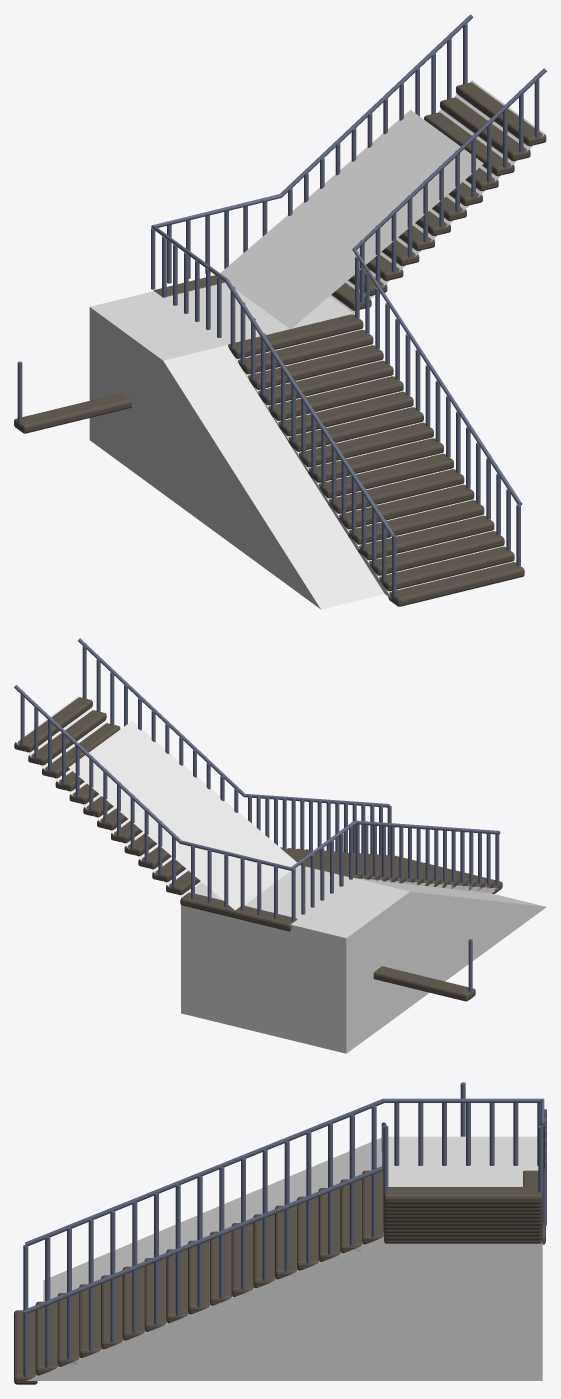
The model's file is ESCALERASpRACTICAS.glb.
3 renders of one model, top to bottom at view 1: azimuth 30°, elevation 25°; view 2: azimuth 150°, elevation 25°; view 3: azimuth 270°, elevation 25°, orthographic. The views are drawn at different scales.
Visible parts, largest first — view 1: Cube.005_clone_18, Cube, Cube.001, Cube.005_clone_18.001; view 2: Cube, Cube.005_clone_18, Cube.001, Cube.005_clone_18.001; view 3: Cube.001, Cube.005_clone_18, Cube.
Boxes of the visible parts, box(x1,y1,x2,y2) form: Cube.005_clone_18: box(151, 14, 546, 606); Cube: box(89, 110, 483, 609); Cube.001: box(164, 80, 544, 599); Cube.005_clone_18.001: box(14, 361, 131, 433); Cube: box(68, 721, 546, 1053); Cube.005_clone_18: box(14, 638, 502, 931); Cube.001: box(15, 695, 498, 1039); Cube.005_clone_18.001: box(373, 939, 475, 1001); Cube.001: box(26, 1170, 542, 1380); Cube.005_clone_18: box(14, 1098, 546, 1384); Cube: box(43, 1136, 538, 1301).
Bounding box in the file's own units: 7.74 × 5.05 × 6.72.
